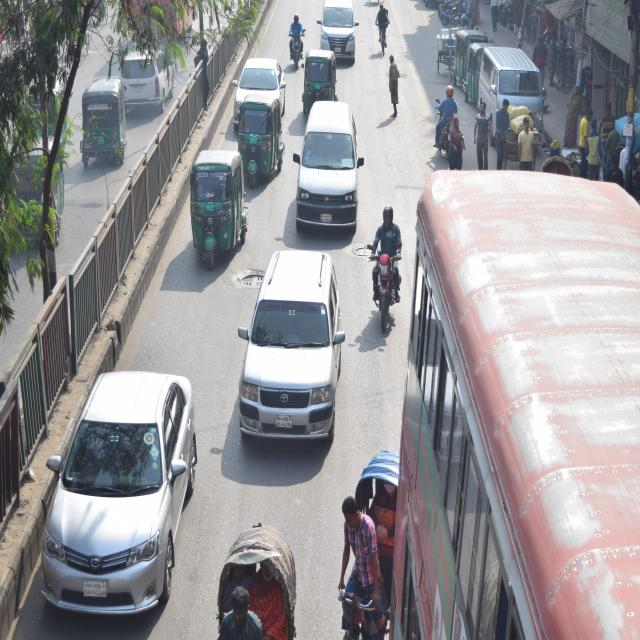bus: (399, 154, 640, 640)
car: (36, 359, 198, 627), (234, 242, 349, 452), (296, 97, 360, 244), (233, 48, 286, 139), (121, 33, 171, 124), (319, 0, 359, 64)
microbus: (470, 36, 544, 138)
motorbike: (358, 213, 402, 340), (428, 92, 456, 158), (284, 17, 304, 71)
